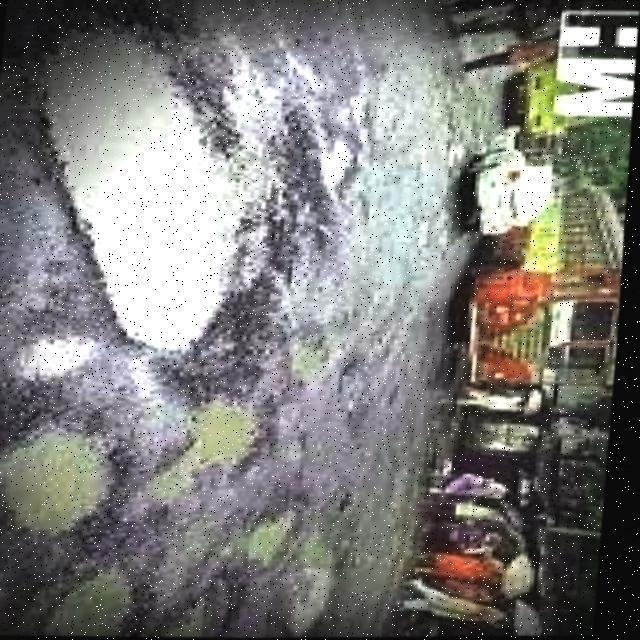pothole: (0, 20, 280, 348), (0, 405, 145, 546), (236, 506, 358, 638), (152, 390, 282, 487), (45, 564, 150, 637), (149, 576, 241, 638), (286, 330, 358, 384), (316, 136, 364, 198)
